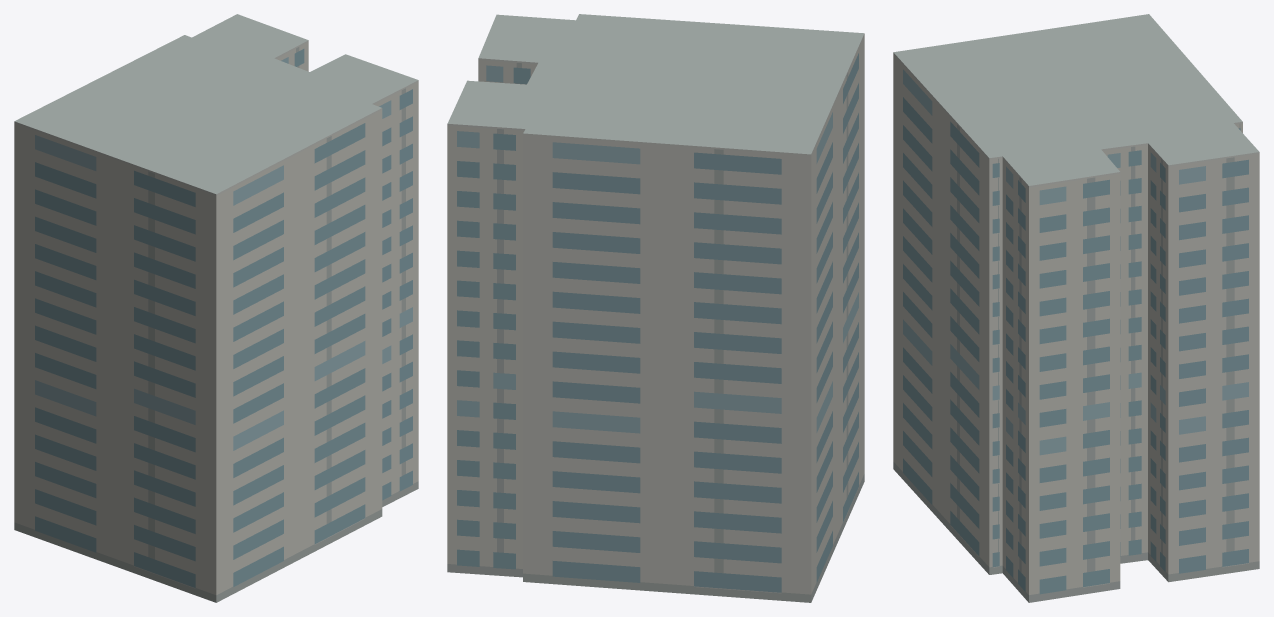
File: survey-upis-32769751.glb
3 views of the same model, side by side, from view 1: azimuth 30°, elevation 25°; view 2: azimuth 150°, elevation 25°; view 3: azimuth 270°, elevation 25° (orthographic). The views are drawn at different scales.
Visible parts, largest first — view 1: survey-upis-32769751.tmp; view 2: survey-upis-32769751.tmp; view 3: survey-upis-32769751.tmp.
Boxes of the visible parts, x1=… form: survey-upis-32769751.tmp: x1=14, y1=14, x2=418, y2=602; survey-upis-32769751.tmp: x1=447, y1=14, x2=864, y2=602; survey-upis-32769751.tmp: x1=893, y1=14, x2=1259, y2=602.
Size of the model in its own units: 56.79 by 64.16 by 51.1.
